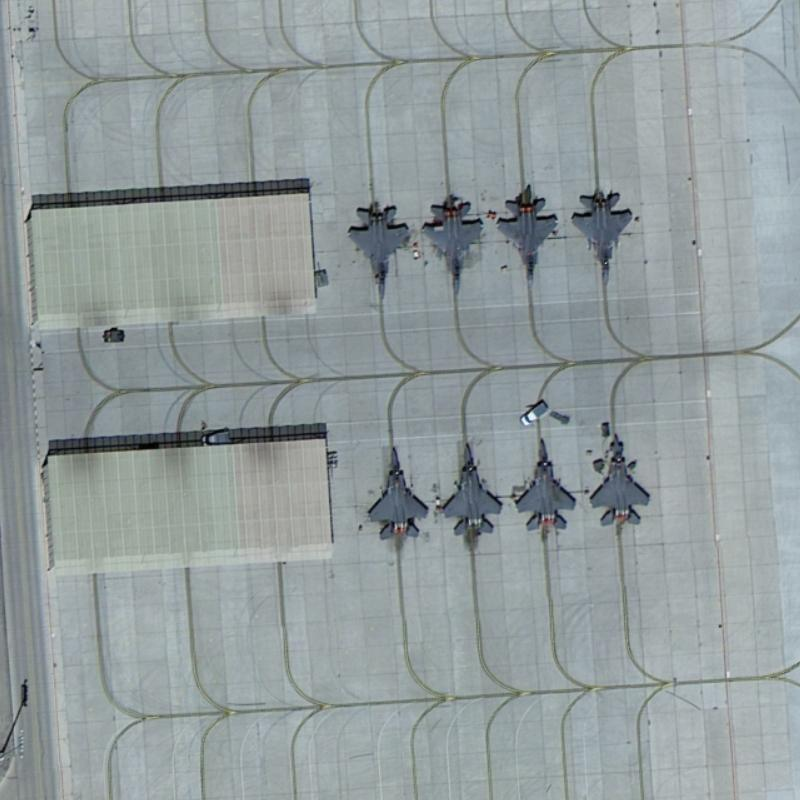A13: (340, 194, 414, 309), (417, 190, 492, 297), (510, 431, 581, 534), (567, 185, 637, 286), (491, 192, 563, 287), (362, 444, 431, 541), (440, 432, 503, 538), (588, 431, 652, 528)
